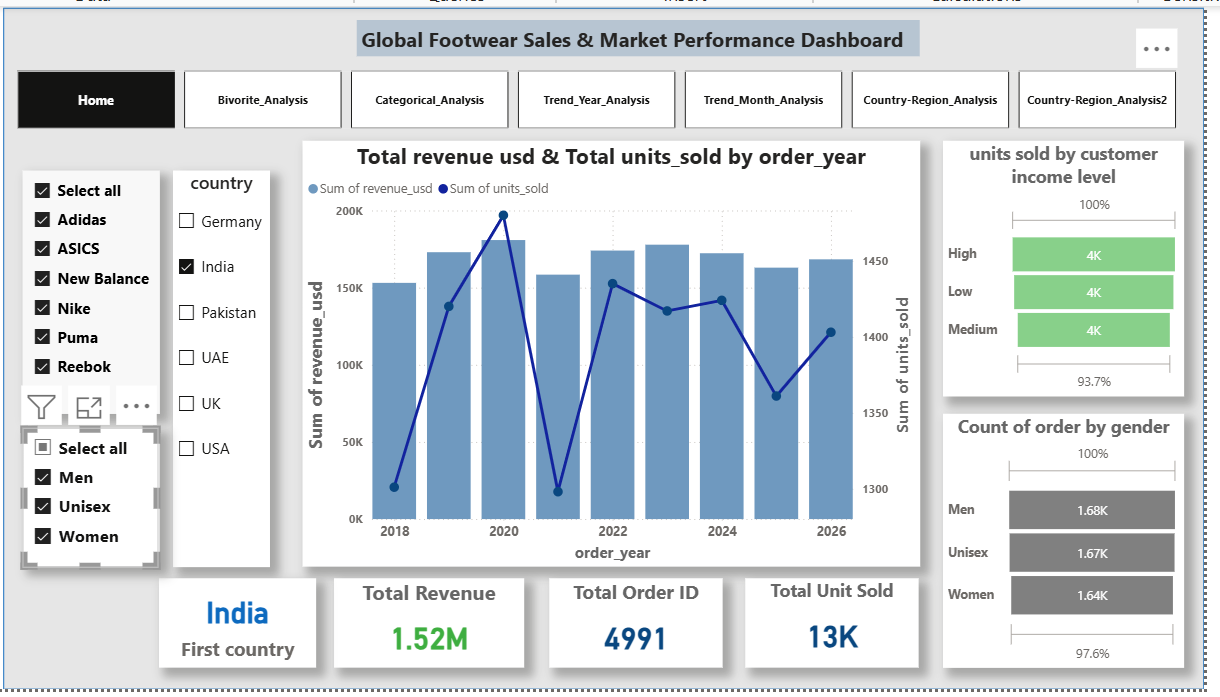

What the dashboard file says about the page in this screenshot:
{"tool":"powerbi","page":{"name":"Home","canvas":[1280,720],"ordinal":0},"visuals":[{"type":"shape","box":[13.5,1.9,1266.5,719],"z":0},{"type":"lineStackedColumnComboChart","title":"Total revenue usd & Total units_sold by order_year","fields":{"Category":["global_footwear_cleaned_data.order_year"],"Y":["Sum(global_footwear_cleaned_data.revenue_usd)"],"Y2":["Sum(global_footwear_cleaned_data.units_sold)"]},"box":[327.7,142.7,651.6,449.2],"z":1000},{"type":"slicer","fields":{"Values":["global_footwear_cleaned_data.brand"]},"box":[32.8,173.5,144.6,256.4],"z":2000},{"type":"slicer","fields":{"Values":["global_footwear_cleaned_data.gender"]},"box":[32.8,445.3,144.6,146.5],"z":3000},{"type":"card","title":"Total Revenue","fields":{"Values":["Sum(global_footwear_cleaned_data.revenue_usd)"]},"box":[362.4,603.4,200.5,94.5],"z":4000},{"type":"card","title":"Total Order ID","fields":{"Values":["Count(global_footwear_cleaned_data.order_id)"]},"box":[588,603.4,183.1,94.5],"z":5000},{"type":"listSlicer","fields":{"Values":["global_footwear_cleaned_data.country"]},"box":[192.8,173.5,102.2,418.3],"z":6000},{"type":"funnel","title":"units sold by customer income level","fields":{"Category":["global_footwear_cleaned_data.customer_income_level"],"Y":["Sum(global_footwear_cleaned_data.units_sold)"]},"box":[1004.3,142.7,254.5,269.9],"z":7000},{"type":"funnel","title":"Count of order by gender","fields":{"Category":["global_footwear_cleaned_data.gender"],"Y":["CountNonNull(global_footwear_cleaned_data.order_id)"]},"box":[1004.3,429.9,254.5,268],"z":8000},{"type":"card","fields":{"Values":["Min(global_footwear_cleaned_data.country)"]},"box":[177.3,603.4,165.8,94.5],"z":9000},{"type":"card","title":"Total Unit Sold","fields":{"Values":["Sum(global_footwear_cleaned_data.units_sold)"]},"box":[796.1,603.4,183.1,94.5],"z":10000},{"type":"pageNavigator","box":[27,67.5,1226,61.7],"z":11000},{"type":"textbox","box":[385.5,15.4,593.7,38.6],"z":12000}]}

Visuals, with their boxes on the page's 1280x720 design canvas (x1, y1, x2, y2). These are canvas units, not pixel positions in the 1220x697 screenshot, which may show the page scaled, cropped or inside an application window:
shape: bbox=(14, 2, 1280, 721)
"Total revenue usd & Total units_sold by order_year" lineStackedColumnComboChart: bbox=(328, 143, 979, 592)
slicer - global_footwear_cleaned_data.brand: bbox=(33, 174, 177, 430)
slicer - global_footwear_cleaned_data.gender: bbox=(33, 445, 177, 592)
"Total Revenue" card: bbox=(362, 603, 563, 698)
"Total Order ID" card: bbox=(588, 603, 771, 698)
listSlicer - global_footwear_cleaned_data.country: bbox=(193, 174, 295, 592)
"units sold by customer income level" funnel: bbox=(1004, 143, 1259, 413)
"Count of order by gender" funnel: bbox=(1004, 430, 1259, 698)
card - Min(global_footwear_cleaned_data.country): bbox=(177, 603, 343, 698)
"Total Unit Sold" card: bbox=(796, 603, 979, 698)
pageNavigator: bbox=(27, 68, 1253, 129)
textbox: bbox=(386, 15, 979, 54)
